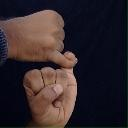hand: (0, 9, 78, 67), (23, 51, 78, 127)
